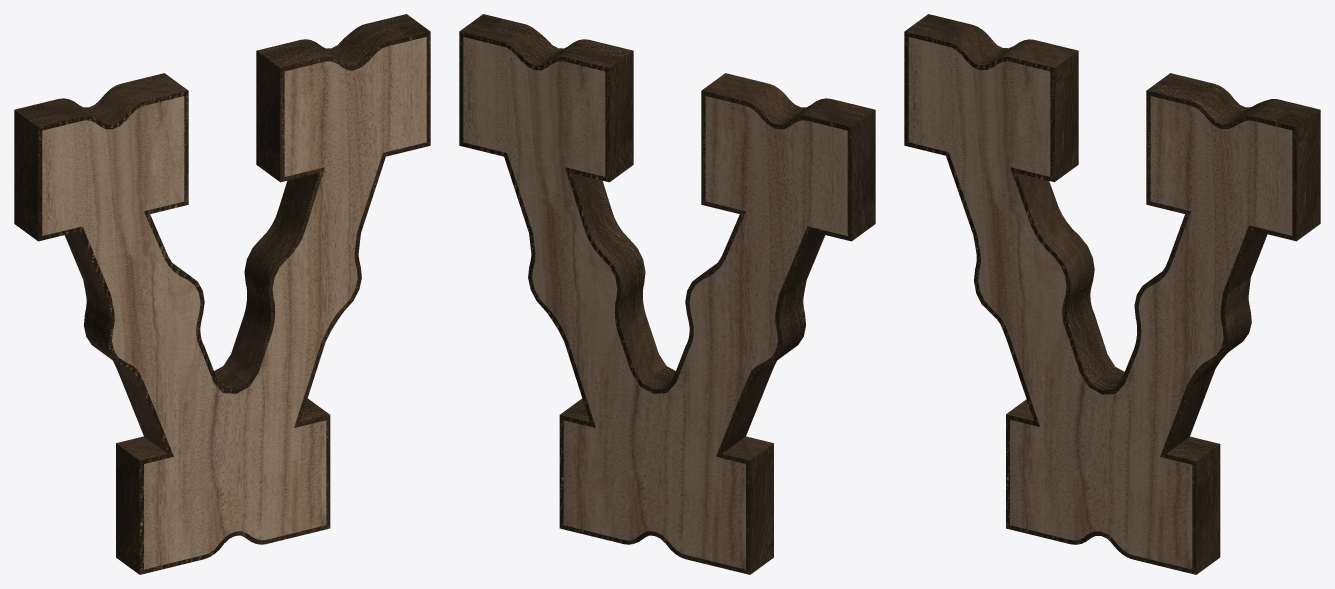
The picture shows the model from 3 angles, left to right: view 1: azimuth 30°, elevation 25°; view 2: azimuth 150°, elevation 25°; view 3: azimuth 330°, elevation 25°; orthographic projection.
Parts seen in each view (by area): view 1: V, V_outline; view 2: V, V_outline; view 3: V, V_outline.
Part boxes in pixels (x1,y1,x2,y2): V: (42,37,426,569); V_outline: (14,14,430,574); V: (463,37,847,569); V_outline: (459,14,875,574); V: (908,37,1292,569); V_outline: (904,14,1320,574).
Size of the model in its own units: 94.55 by 109 by 10.
Materials: 2 (2 with a texture image).
